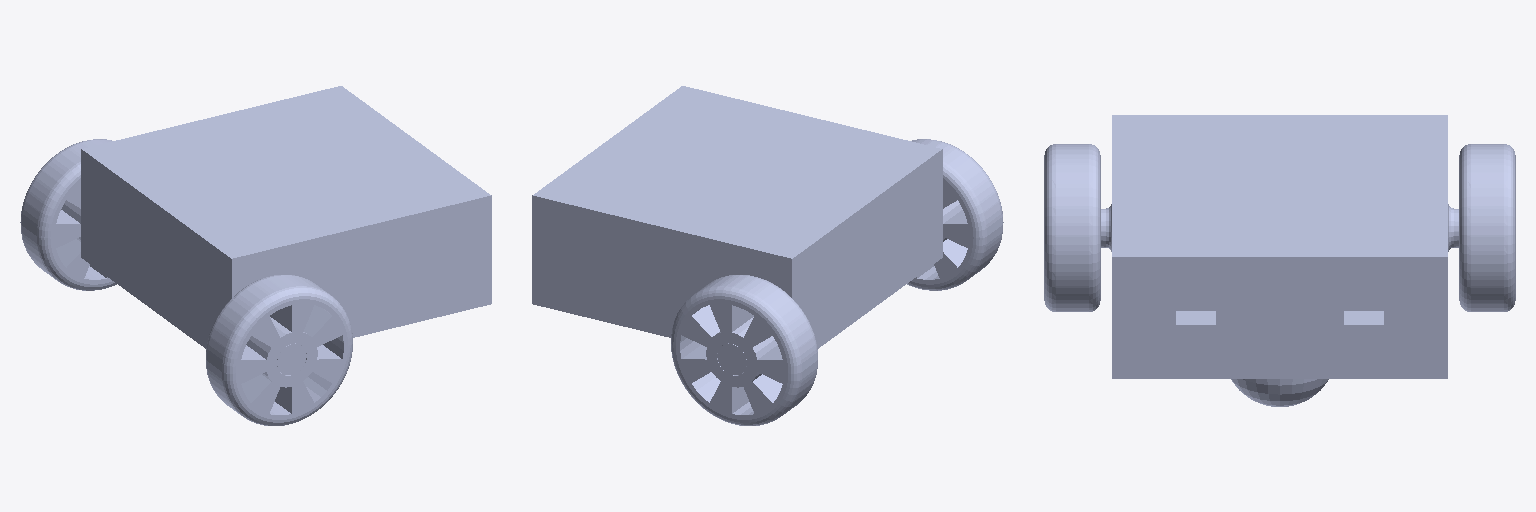
The robot description file, URDF, robot "nevil":
<?xml version="1.0" encoding="utf-8"?>
<!-- This URDF was automatically created by SolidWorks to URDF Exporter! Originally created by [author] ([email redacted]) 
     Commit Version: 1.6.0-4-g7f85cfe  Build Version: 1.6.7995.38578
     For more information, please see http://wiki.ros.org/sw_urdf_exporter -->
<robot
  name="nevil">
  
  <link name="dummy_root_link"/>
  <joint name="fixed_joint_dummy_to_base" type="fixed">
    <parent link="dummy_root_link"/>
    <child link="base_link"/>
    <origin xyz="0 0 0" rpy="0 0 0"/>
  </joint>

  <link
    name="base_link">
    <inertial>
      <origin
        xyz="0.001107 0.057697 -3.4568E-17"
        rpy="0 0 0" />
      <mass
        value="11.198" />
      <inertia
        ixx="0.099787"
        ixy="0.0014599"
        ixz="-1.1623E-17"
        iyy="0.17007"
        iyz="-3.1681E-18"
        izz="0.099885" />
    </inertial>
    <visual>
      <origin
        xyz="0 0 0"
        rpy="0 0 0" />
      <geometry>
        <mesh
          filename="package://nevil/meshes/base_link.STL" />
      </geometry>
      <material
        name="">
        <color
          rgba="0.79216 0.81961 0.93333 1" />
      </material>
    </visual>
    <collision>
      <origin
        xyz="0 0 0"
        rpy="0 0 0" />
      <geometry>
        <mesh
          filename="package://nevil/meshes/base_link.STL" />
      </geometry>
    </collision>
  </link>
  <link
    name="left_link">
    <inertial>
      <origin
        xyz="-1.3878E-17 0 0.025"
        rpy="0 0 0" />
      <mass
        value="0.60379" />
      <inertia
        ixx="0.0010679"
        ixy="-1.3235E-20"
        ixz="7.031E-21"
        iyy="0.0010679"
        iyz="-1.8115E-20"
        izz="0.0018964" />
    </inertial>
    <visual>
      <origin
        xyz="0 0 0"
        rpy="0 0 0" />
      <geometry>
        <mesh
          filename="package://nevil/meshes/left_link.STL" />
      </geometry>
      <material
        name="">
        <color
          rgba="0.79216 0.81961 0.93333 1" />
      </material>
    </visual>
    <collision>
      <origin
        xyz="0 0 0"
        rpy="0 0 0" />
      <geometry>
        <mesh
          filename="package://nevil/meshes/left_link.STL" />
      </geometry>
    </collision>
  </link>
  <joint
    name="lj"
    type="continuous">
    <origin
      xyz="-0.115 -0.16 0.025"
      rpy="1.5708 0 0" />
    <parent
      link="base_link" />
    <child
      link="left_link" />
    <axis
      xyz="0 0 -1" />
    <limit
      lower="0"
      upper="0"
      effort="0"
      velocity="0" />
  </joint>
  <link
    name="right_link">
    <inertial>
      <origin
        xyz="-1.3878E-17 0 -0.025"
        rpy="0 0 0" />
      <mass
        value="0.60379" />
      <inertia
        ixx="0.0010679"
        ixy="-1.1994E-20"
        ixz="1.2408E-20"
        iyy="0.0010679"
        iyz="-1.7784E-20"
        izz="0.0018964" />
    </inertial>
    <visual>
      <origin
        xyz="0 0 0"
        rpy="0 0 0" />
      <geometry>
        <mesh
          filename="package://nevil/meshes/right_link.STL" />
      </geometry>
      <material
        name="">
        <color
          rgba="0.79216 0.81961 0.93333 1" />
      </material>
    </visual>
    <collision>
      <origin
        xyz="0 0 0"
        rpy="0 0 0" />
      <geometry>
        <mesh
          filename="package://nevil/meshes/right_link.STL" />
      </geometry>
    </collision>
  </link>
  <joint
    name="rj"
    type="continuous">
    <origin
      xyz="-0.115 0.16 0.025"
      rpy="1.5708 0 0" />
    <parent
      link="base_link" />
    <child
      link="right_link" />
    <axis
      xyz="0 0 -1" />
    <limit
      lower="0"
      upper="0"
      effort="0"
      velocity="0" />
  </joint>
  
  <link
    name="camera">
    <inertial>
      <origin
        xyz="0 0.014468 0"
        rpy="0 0 0" />
      <mass
        value="0.033216" />
      <inertia
        ixx="6.2425E-06"
        ixy="-3.9129E-22"
        ixz="-1.0609E-21"
        iyy="7.4037E-06"
        iyz="-4.9211E-22"
        izz="6.2425E-06" />
    </inertial>
    <visual>
      <origin
        xyz="0 0 0"
        rpy="0 0 0" />
      <geometry>
        <mesh
          filename="package://nevil/meshes/camera.STL" />
      </geometry>
      <material
        name="">
        <color
          rgba="0.79216 0.81961 0.93333 1" />
      </material>
    </visual>
    <collision>
      <origin
        xyz="0 0 0"
        rpy="0 0 0" />
      <geometry>
        <mesh
          filename="package://nevil/meshes/camera.STL" />
      </geometry>
    </collision>
  </link>
  
  <joint
    name="cj"
    type="fixed">
    <origin
      xyz="0.18 0.075 0.05"
      rpy="3.1416 0 -1.5708" />
    <parent
      link="base_link" />
    <child
      link="camera" />
    <axis
      xyz="0 0 0" />
  </joint> 
  <link
    name="imu">
    <inertial>
      <origin
        xyz="0 0.014468 -1.3878E-17"
        rpy="0 0 0" />
      <mass
        value="0.033216" />
      <inertia
        ixx="6.2425E-06"
        ixy="-7.2219E-23"
        ixz="-3.4131E-21"
        iyy="7.4037E-06"
        iyz="-1.4026E-22"
        izz="6.2425E-06" />
    </inertial>
    <visual>
      <origin
        xyz="0 0 0"
        rpy="0 0 0" />
      <geometry>
        <mesh
          filename="package://nevil/meshes/imu.STL" />
      </geometry>
      <material
        name="">
        <color
          rgba="0.79216 0.81961 0.93333 1" />
      </material>
    </visual>
    <collision>
      <origin
        xyz="0 0 0"
        rpy="0 0 0" />
      <geometry>
        <mesh
          filename="package://nevil/meshes/imu.STL" />
      </geometry>
    </collision>
  </link>
  <!--
  <joint
    name="ij"
    type="fixed">
    <origin
      xyz="0.18 -0.075 0.05"
      rpy="3.1416 0 -1.5708" />
    <parent
      link="base_link" />
    <child
      link="imu" />
    <axis
      xyz="0 0 0" />
  </joint> -->

  <!--camera sensor -->

  <link name="camera_link">
     <collision>
      <origin xyz="0 0 0" rpy="0 0 0"/>
      <geometry>
    <box size="0 0 0"/>
      </geometry>
    </collision>

    <visual>
      <origin xyz="0 0 0" rpy="0 0 0"/>
      <geometry>
    <box size="0 0 0"/>
      </geometry>
    </visual>
  </link>
  
  
  <joint name="camera_joint" type="fixed">
    <origin xyz="0.18 0.075 0.05" rpy="0 0 0"/>
    <parent link="base_link"/>
    <child link="camera_link"/>
  </joint>

  
  <gazebo reference="camera_link">
    <sensor type="camera" name="camera1">
      <update_rate>30.0</update_rate>
      <camera name="head">
        <horizontal_fov>1.3962634</horizontal_fov>
        <image>
          <width>800</width>
          <height>800</height>
          <format>R8G8B8</format>
        </image>
        <clip>
          <near>0.02</near>
          <far>300</far>
        </clip>
        <noise>
          <type>gaussian</type>
          <!-- Noise is sampled independently per pixel on each frame.
               That pixel's noise value is added to each of its color
               channels, which at that point lie in the range [0,1]. -->
          <mean>0.0</mean>
          <stddev>0.007</stddev>
        </noise>
      </camera>
      <plugin name="camera_controller" filename="libgazebo_ros_camera.so">
        <alwaysOn>true</alwaysOn>
        <updateRate>0.0</updateRate>
        <cameraName>rrbot/camera1</cameraName>
        <imageTopicName>image_raw</imageTopicName>
        <cameraInfoTopicName>camera_info</cameraInfoTopicName>
        <frameName>camera_link</frameName>
        <hackBaseline>0.07</hackBaseline>
        <distortionK1>0.0</distortionK1>
        <distortionK2>0.0</distortionK2>
        <distortionK3>0.0</distortionK3>
        <distortionT1>0.0</distortionT1>
        <distortionT2>0.0</distortionT2>
      </plugin>
    </sensor>
  </gazebo>

  <!--IMU sensor-->  

  <joint name="ij" type="fixed">
    <parent link="base_link"/>
    <child link="imu"/>
    <origin xyz="0.18 -0.075 0.05" rpy="3.1416 0 -1.5708"/>
  </joint>

  <gazebo reference="imu">
    <gravity>true</gravity>
    <sensor name="imu_sensor" type="imu">
      <always_on>true</always_on>
      <update_rate>100</update_rate>
      <visualize>true</visualize>
      <topic>__default_topic__</topic>
      <plugin filename="libgazebo_ros_imu_sensor.so" name="imu_plugin">
        <topicName>imu</topicName>
        <bodyName>imu_link</bodyName>
        <updateRateHZ>10.0</updateRateHZ>
        <gaussianNoise>0.0</gaussianNoise>
        <xyzOffset>0 0 0</xyzOffset>
        <rpyOffset>0 0 0</rpyOffset>
        <frameName>imu_link</frameName>
        <initialOrientationAsReference>false</initialOrientationAsReference>
      </plugin>
      <pose>0 0 0 0 0 0</pose>
    </sensor>
  </gazebo>

<!--Leser Sensor-->

  <joint name="laser_joint" type="fixed">
    <axis xyz="0 0 0" />
    <origin xyz="0 0 0.2" rpy="0 0 0"/>
    <parent link="base_link"/>
    <child link="laser_link"/>
  </joint>

  <link name="laser_link">   
    <collision>
      <origin xyz="0 0 0" rpy="0 0 0"/>
      <geometry>
    <box size="0 0 0"/>
      </geometry>
    </collision>

    <visual>
      <origin xyz="0 0 0" rpy="0 0 0"/>
      <geometry>
    <box size="0 0 0"/>
      </geometry>
    </visual>
  </link>

  <gazebo reference="laser_link">
    <sensor type="ray" name="head_hokuyo_sensor">
      <pose>0 0 0 0 0 0</pose>
      <visualize>false</visualize>
      <update_rate>40</update_rate>
      <ray>
        <scan>
          <horizontal>
            <samples>720</samples>
            <resolution>1</resolution>
            <min_angle>-3.14</min_angle>
            <max_angle>3.14</max_angle>
          </horizontal>
        </scan>
        <range>
          <min>0.10</min>
          <max>30.0</max>
          <resolution>0.01</resolution>
        </range>
        <noise>
          <type>gaussian</type>
          <!-- Noise parameters based on published spec for Hokuyo laser
               achieving "+-30mm" accuracy at range < 10m.  A mean of 0.0m and
               stddev of 0.01m will put 99.7% of samples within 0.03m of the true
               reading. -->
          <mean>0.0</mean>
          <stddev>0.01</stddev>
        </noise>
      </ray>
      <plugin name="gazebo_ros_head_hokuyo_controller" filename="libgazebo_ros_laser.so">
        <topicName>LaserScan</topicName>
        <frameName>laser_link</frameName>
      </plugin>
    </sensor>
  </gazebo>  


  <!--Differtial Drive Plugin-->

  <gazebo>
  <plugin name="differential_drive_controller" filename="libgazebo_ros_diff_drive.so">

    <!-- Plugin update rate in Hz -->
    <updateRate>100</updateRate>

    <!-- Name of left joint, defaults to `left_joint` -->
    <leftJoint>rj</leftJoint>

    <!-- Name ofrright joint, defaults to `right_joint` -->
    <rightJoint>lj</rightJoint>

    <!-- The distance from the center of one wheel to the other, in meters, defaults to 0.34 m -->
    <wheelSeparation>0.370</wheelSeparation>

    <!-- Diameter of the wheels, in meters, defaults to 0.15 m -->
    <wheelDiameter>0.150</wheelDiameter>

    <!-- Wheel acceleration, in rad/s^2, defaults to 0.0 rad/s^2 -->
    <wheelAcceleration>1.0</wheelAcceleration>

    <!-- Maximum torque which the wheels can produce, in Nm, defaults to 5 Nm -->
    <wheelTorque>20</wheelTorque>

    <!-- Topic to receive geometry_msgs/Twist message commands, defaults to `cmd_vel` -->
    <commandTopic>cmd_vel</commandTopic>

    <!-- Topic to publish nav_msgs/Odometry messages, defaults to `odom` -->
    <odometryTopic>odom</odometryTopic>

    <!-- Odometry frame, defaults to `odom` -->
    <odometryFrame>odom</odometryFrame>

    <!-- Robot frame to calculate odometry from, defaults to `base_footprint` -->
    <robotBaseFrame>dummy_root_link</robotBaseFrame>

    <!-- Odometry source, 0 for ENCODER, 1 for WORLD, defaults to WORLD -->
    <odometrySource>1</odometrySource>

    <!-- Set to true to publish transforms for the wheel links, defaults to false -->
    <publishWheelTF>true</publishWheelTF>

    <!-- Set to true to publish transforms for the odometry, defaults to true -->
    <publishOdom>true</publishOdom>

    <publishTf>true</publishTf>

    <!-- Set to true to publish sensor_msgs/JointState on /joint_states for the wheel joints, defaults to false -->
    <publishWheelJointState>true</publishWheelJointState>

    <publishOdomTF>true</publishOdomTF>

    <!-- Set to true to swap right and left wheels, defaults to true -->
    <legacyMode>false</legacyMode>
  </plugin>
</gazebo>
<gazebo reference="left_link">
  <mu1>0.9</mu1>
  <mu2>0.9</mu2>
</gazebo>
<gazebo reference="right_link">
  <mu1>0.9</mu1>
  <mu2>0.9</mu2>
</gazebo>
<gazebo reference="base_link">
  <mu1>0.001</mu1>
  <mu2>0.001</mu2>
</gazebo>

</robot>

--- Render facts (derived) ---
The picture shows the robot from 3 angles, left to right: view 1: azimuth 30°, elevation 25°; view 2: azimuth 150°, elevation 25°; view 3: azimuth 270°, elevation 25°; orthographic projection.
Model nevil with 8 links and 7 joints (2 continuous, 5 fixed), rooted at dummy_root_link, posed all joints at 0.
Visible links, largest first — view 1: base_link, left_link, right_link; view 2: base_link, right_link, left_link; view 3: base_link, left_link, right_link, camera, imu.
Boxes of the visible links, x1,y1,x2,y2 form: base_link: (81,86,491,374); left_link: (206,275,352,425); right_link: (20,139,116,290); base_link: (532,86,942,374); right_link: (671,275,817,425); left_link: (907,139,1003,290); base_link: (1101,115,1458,406); left_link: (1044,144,1100,311); right_link: (1459,144,1515,311); camera: (1344,311,1383,359); imu: (1176,311,1215,359).
Bounding box of the posed robot: 0.37 × 0.42 × 0.25 m (x, y, z).
Meshes: 5 distinct files referenced, 5 mesh visuals loaded (5 binary STL).
